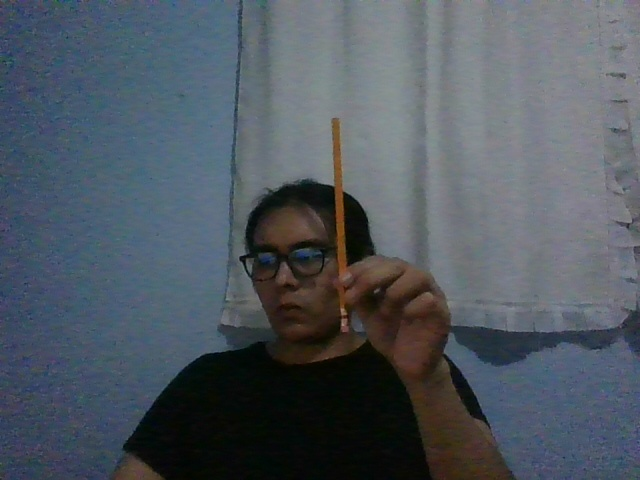lapiz: (330, 116, 351, 334)
